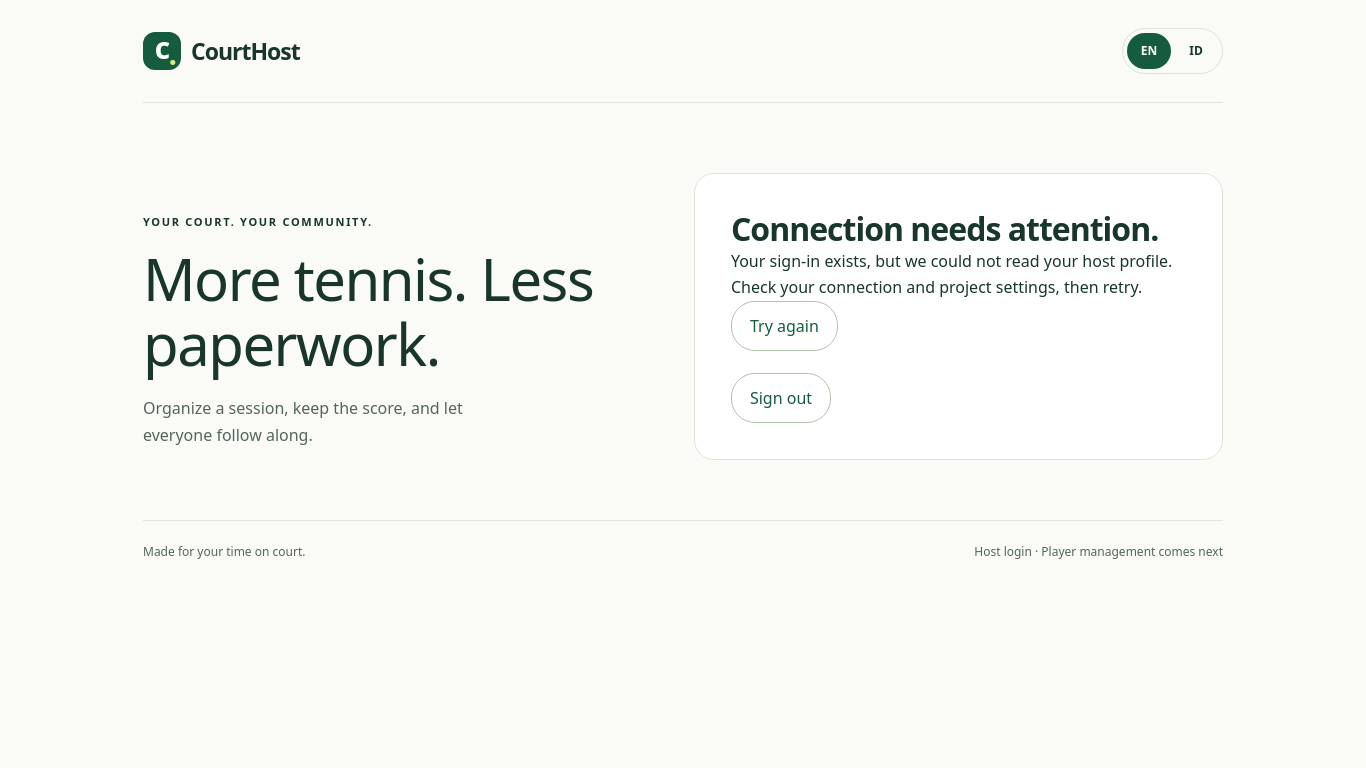
Test: profile network error can be retried
Expected: the heading "Connection needs attention." is shown, [731,210,1186,248]
Click the button "Try again". click: (784, 326)
box: [731,300,838,350]
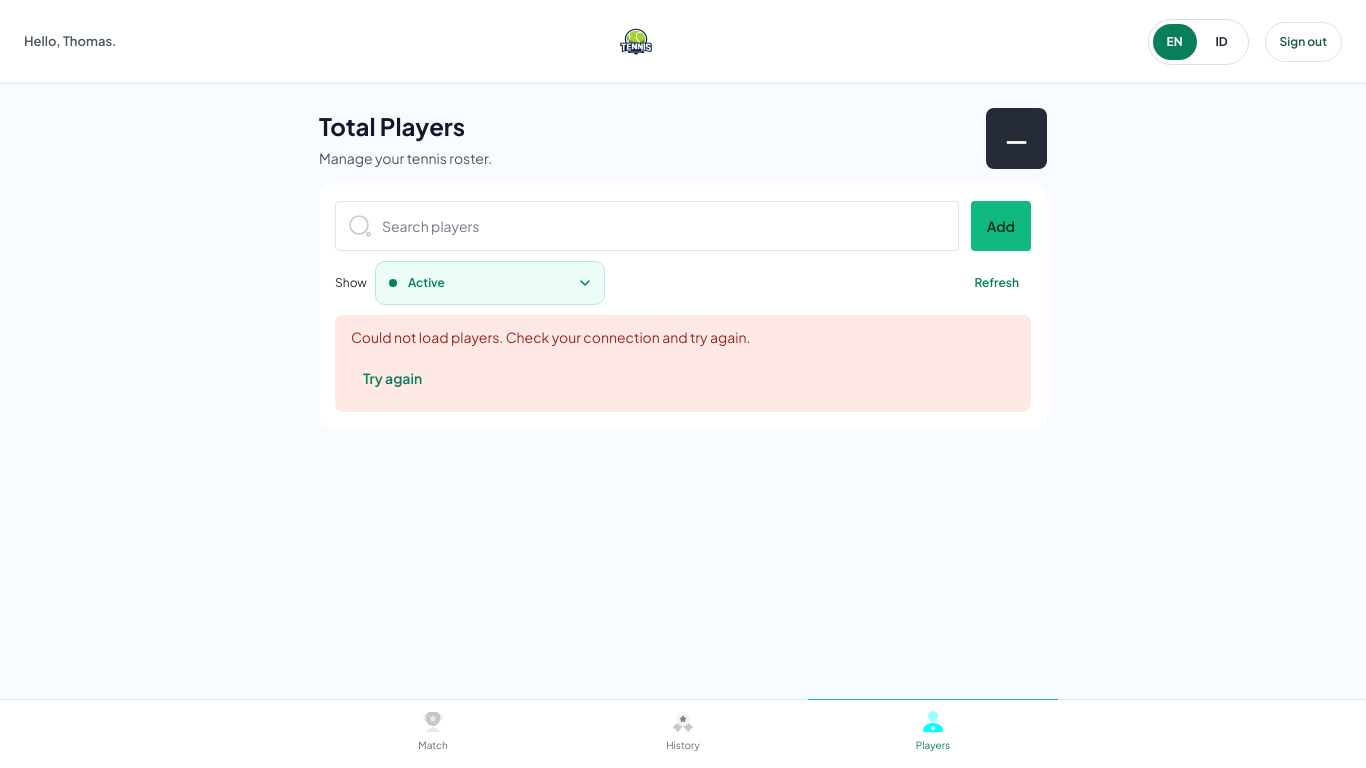
Now the heading "Hello, Thomas." is shown, box [24,33,117,49]
